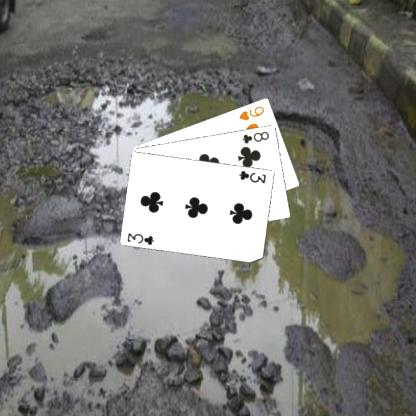3C: (236, 168, 268, 184), (125, 230, 156, 246)
8C: (240, 128, 271, 145)
9H: (236, 103, 266, 122)
